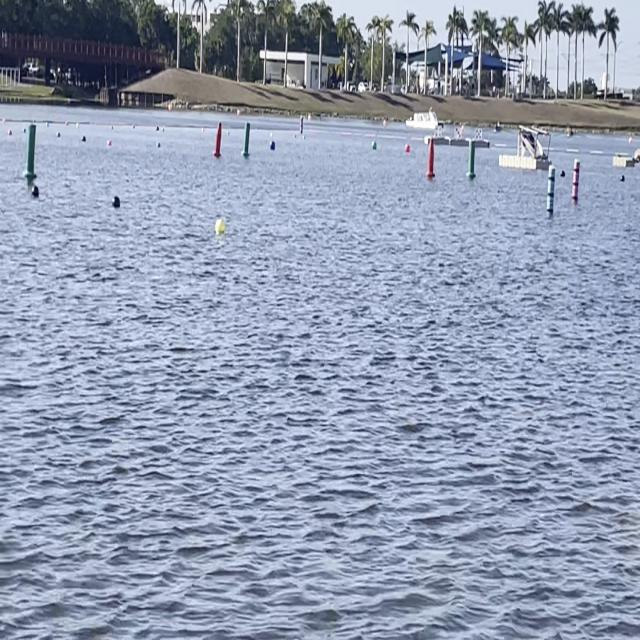buoy: (213, 213, 224, 236), (30, 182, 40, 198), (268, 136, 278, 152), (110, 194, 120, 209), (560, 165, 566, 178), (619, 172, 625, 184), (371, 138, 376, 152), (404, 142, 411, 152)
